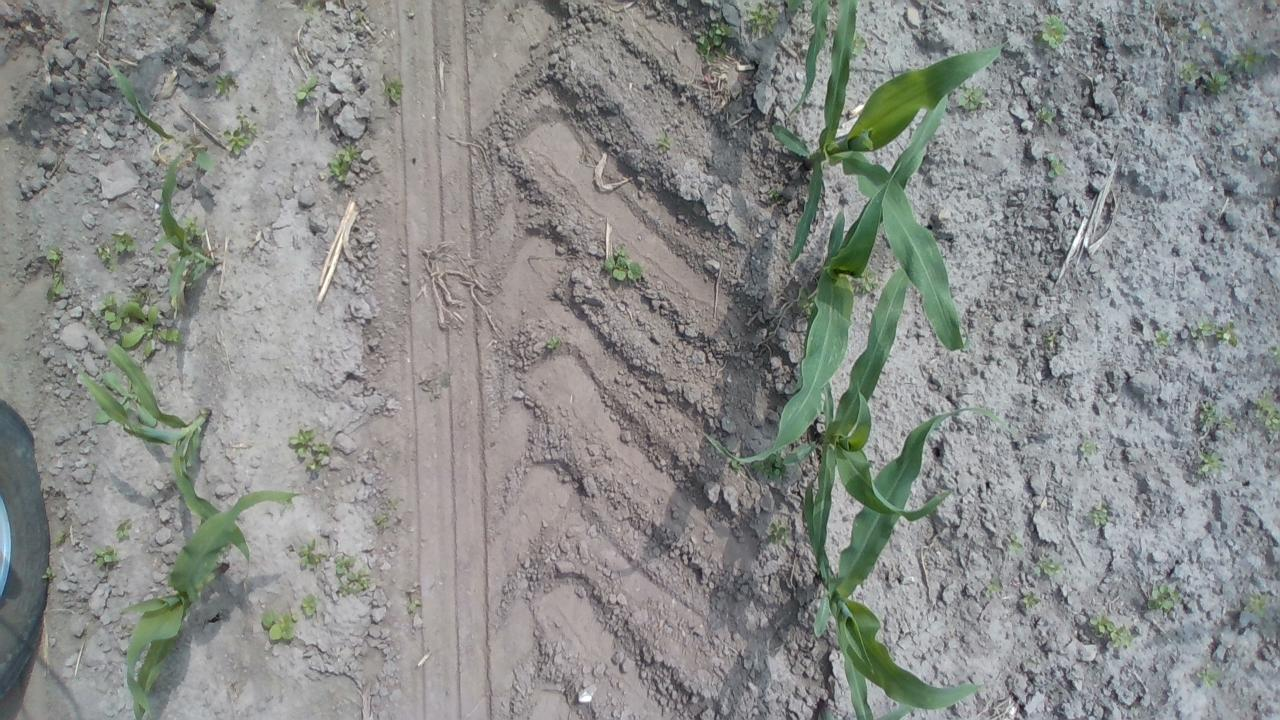Maize: (702, 92, 949, 467), (768, 0, 1008, 352), (802, 408, 1007, 720), (782, 262, 958, 596), (72, 344, 251, 582), (120, 489, 302, 720), (108, 61, 220, 172), (158, 145, 214, 316), (781, 0, 836, 121), (814, 696, 914, 720)
Weeds: (99, 286, 182, 358), (93, 370, 160, 429), (695, 15, 738, 64), (288, 426, 332, 472), (95, 230, 138, 273), (1024, 13, 1072, 49), (600, 247, 647, 283), (1088, 614, 1133, 648), (334, 556, 372, 596), (223, 112, 258, 154), (1191, 318, 1240, 348), (259, 606, 299, 642), (326, 144, 361, 182), (744, 0, 780, 35), (45, 244, 67, 300), (954, 82, 992, 114), (1253, 390, 1280, 434), (296, 538, 329, 570), (754, 448, 785, 481), (1231, 46, 1265, 74), (176, 214, 208, 243), (1203, 67, 1234, 96), (372, 498, 400, 530), (853, 263, 881, 295), (1146, 584, 1179, 610), (208, 72, 240, 97), (293, 74, 320, 103), (1043, 152, 1071, 178), (1194, 665, 1224, 689), (94, 543, 120, 569), (766, 518, 789, 546), (797, 286, 816, 319), (381, 80, 404, 106), (1196, 399, 1218, 424), (1247, 592, 1268, 618), (848, 30, 864, 64), (1036, 556, 1062, 576), (1198, 450, 1218, 476), (1177, 61, 1202, 81), (983, 574, 1002, 598), (1035, 106, 1056, 127), (1089, 505, 1109, 527), (300, 593, 319, 616), (112, 518, 131, 541), (654, 134, 672, 154), (1077, 441, 1098, 458), (1196, 18, 1214, 37), (1006, 540, 1026, 556), (1154, 328, 1170, 348), (302, 0, 320, 17), (1022, 592, 1041, 608), (1044, 328, 1056, 350), (1220, 416, 1236, 432), (728, 458, 742, 476), (545, 335, 561, 350), (408, 596, 420, 616), (1270, 345, 1280, 367), (355, 10, 368, 26), (53, 528, 66, 544), (42, 566, 56, 580), (767, 187, 782, 200), (1176, 30, 1189, 44)
